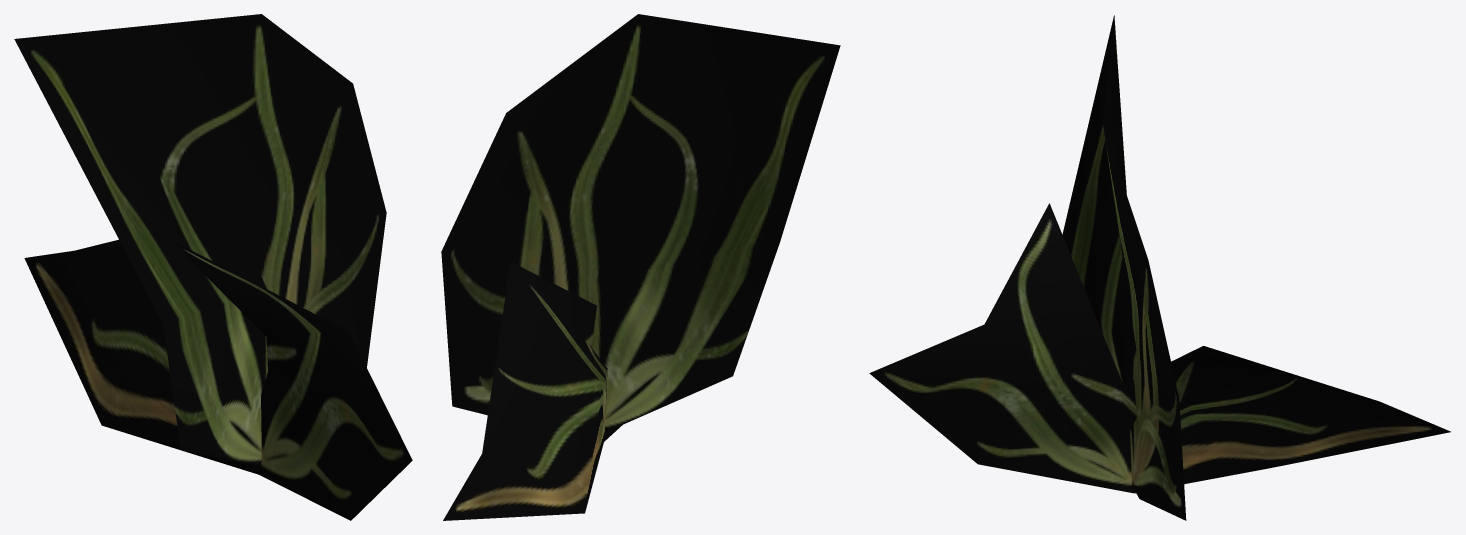
Rendered from grass_bermuda_01_5.glb.
3 views of the same model, side by side, from view 1: azimuth 30°, elevation 25°; view 2: azimuth 150°, elevation 25°; view 3: azimuth 270°, elevation 25° (orthographic). The views are drawn at different scales.
Parts seen in each view (by area): view 1: grass_bermuda_01_medium_c; view 2: grass_bermuda_01_medium_c; view 3: grass_bermuda_01_medium_c.
Part boxes in pixels (left/top/right/bottom): grass_bermuda_01_medium_c: left=14, top=14, right=412, bottom=520; grass_bermuda_01_medium_c: left=441, top=14, right=840, bottom=520; grass_bermuda_01_medium_c: left=869, top=15, right=1450, bottom=520.
Bounding box in the file's own units: 0.057 × 0.0667 × 0.0916.
Materials: 1 (1 with a texture image).
